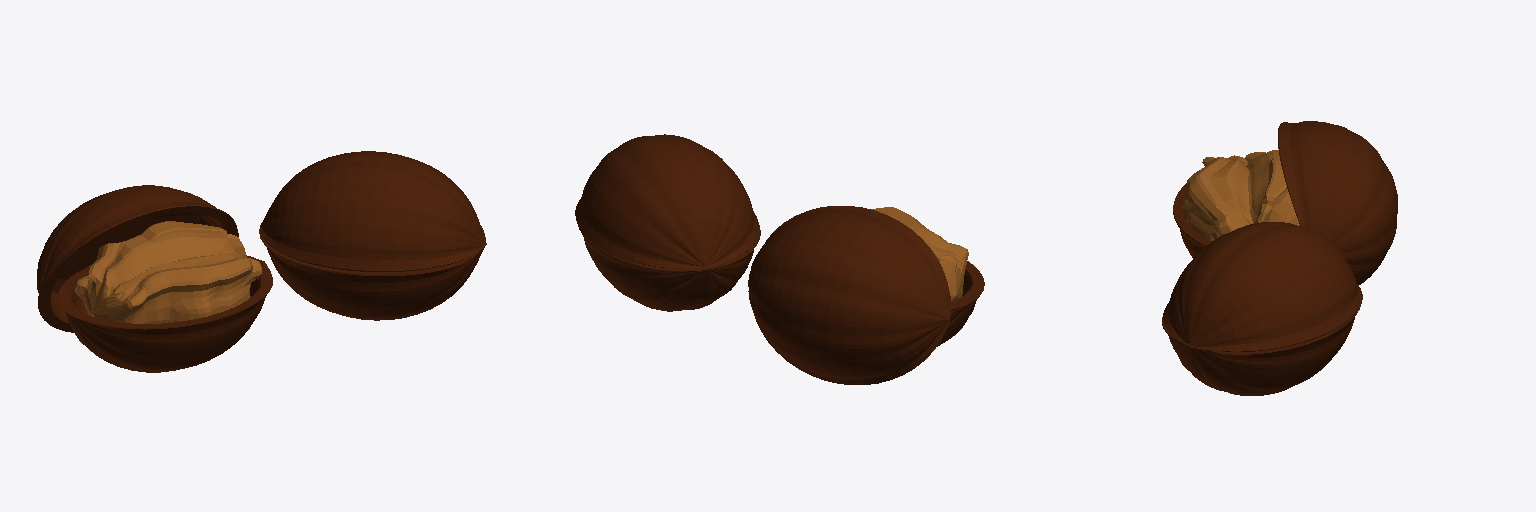
The model's file is Walnut_252.obj.
3 renders of one model, left to right at view 1: azimuth 30°, elevation 25°; view 2: azimuth 150°, elevation 25°; view 3: azimuth 270°, elevation 25°, orthographic.
Visible parts, largest first — view 1: Sphere001; view 2: Sphere001; view 3: Sphere001.
Part boxes in pixels (x1,y1,x2,y2): Sphere001: (37, 151, 486, 372); Sphere001: (575, 134, 984, 384); Sphere001: (1162, 121, 1397, 395).
Size of the model in its own units: 39.04 by 14.29 by 20.